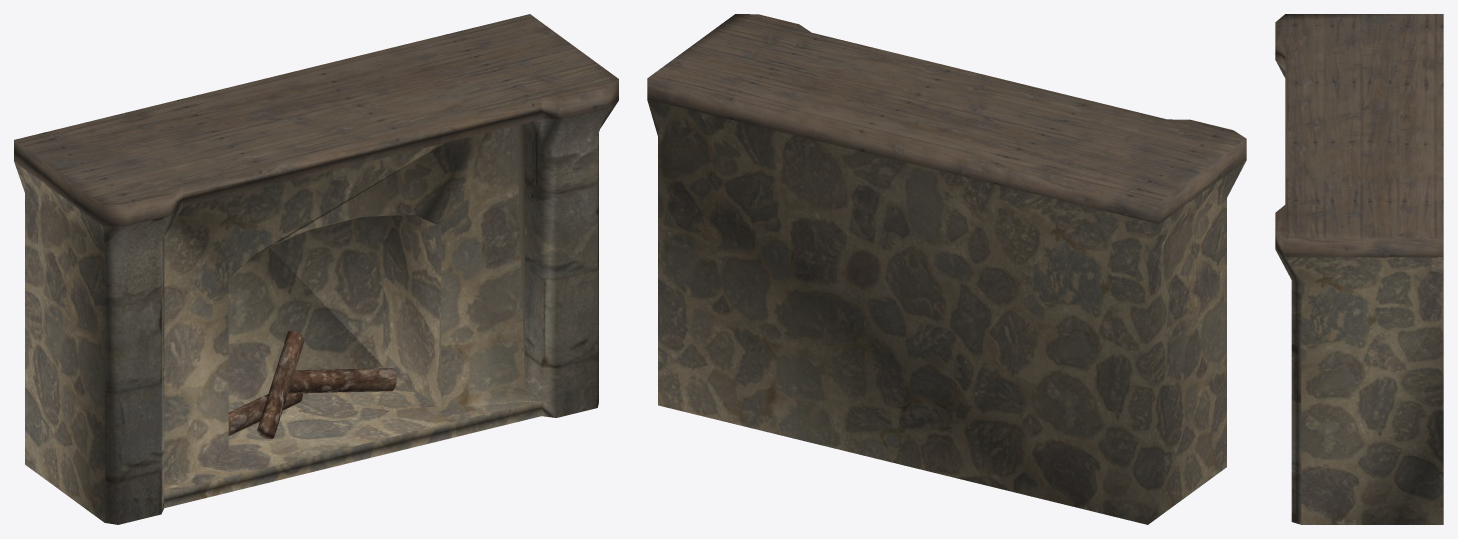
File: medieval_fireplace.glb
3 renders of one model, left to right at view 1: azimuth 30°, elevation 25°; view 2: azimuth 150°, elevation 25°; view 3: azimuth 270°, elevation 25°, orthographic. The views are drawn at different scales.
Parts seen in each view (by area): view 1: polySurface3; view 2: polySurface3; view 3: polySurface3.
Boxes of the visible parts, left/top/right/bottom form: polySurface3: left=14, top=14, right=618, bottom=524; polySurface3: left=647, top=14, right=1246, bottom=524; polySurface3: left=1275, top=14, right=1443, bottom=524.
Bounding box in the file's own units: 3.26 × 1.97 × 1.03.
Materials: 1 (1 with a texture image).
